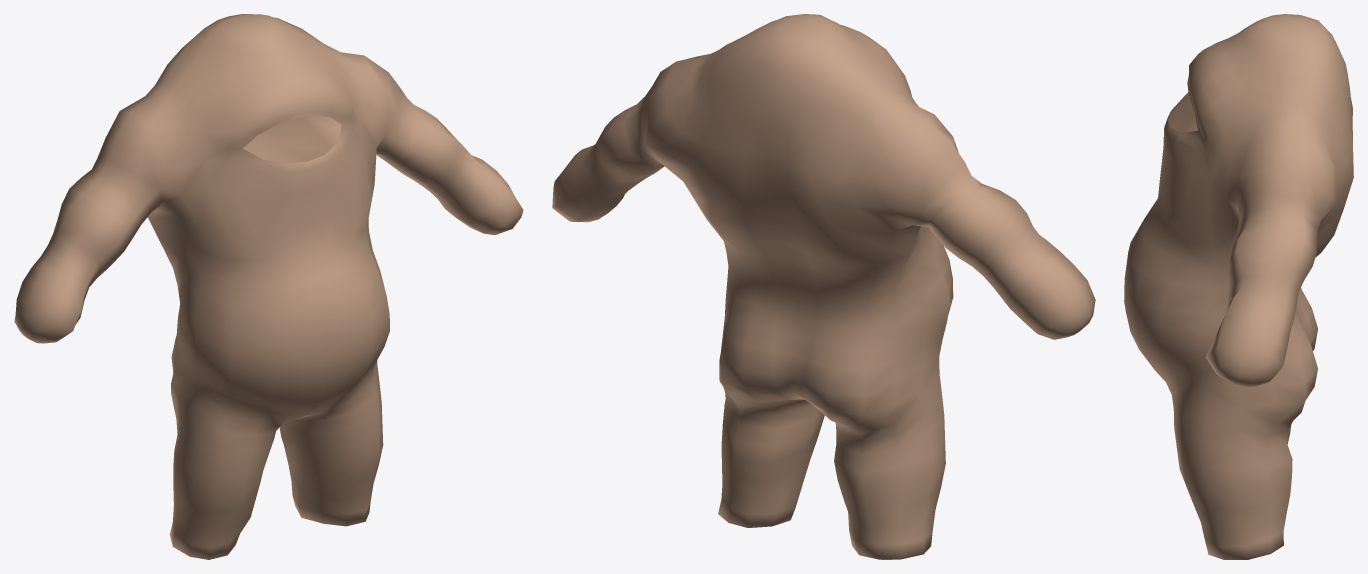
File: Character.FBX
3 renders of one model, left to right at view 1: azimuth 30°, elevation 25°; view 2: azimuth 150°, elevation 25°; view 3: azimuth 270°, elevation 25°, orthographic. The views are drawn at different scales.
Parts seen in each view (by area): view 1: humanBody007; view 2: humanBody007; view 3: humanBody007.
Part boxes in pixels (box(x1,y1,x2,y2)): humanBody007: box(14, 14, 523, 559); humanBody007: box(552, 14, 1095, 559); humanBody007: box(1124, 14, 1353, 559).
Size of the model in its own units: 92.03 by 88.17 by 36.86.
